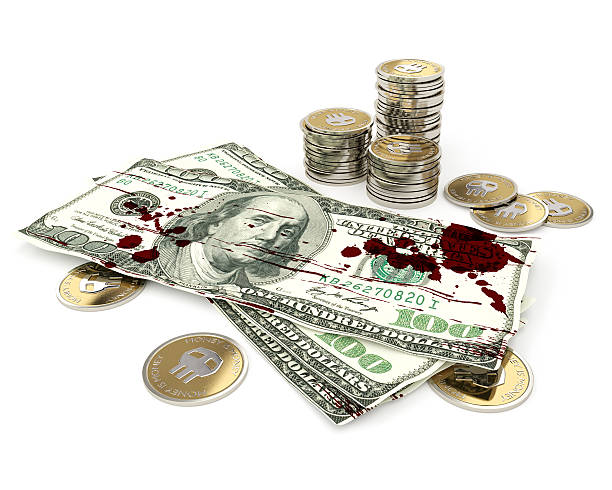blood: (338, 223, 526, 312), (99, 202, 191, 272)
